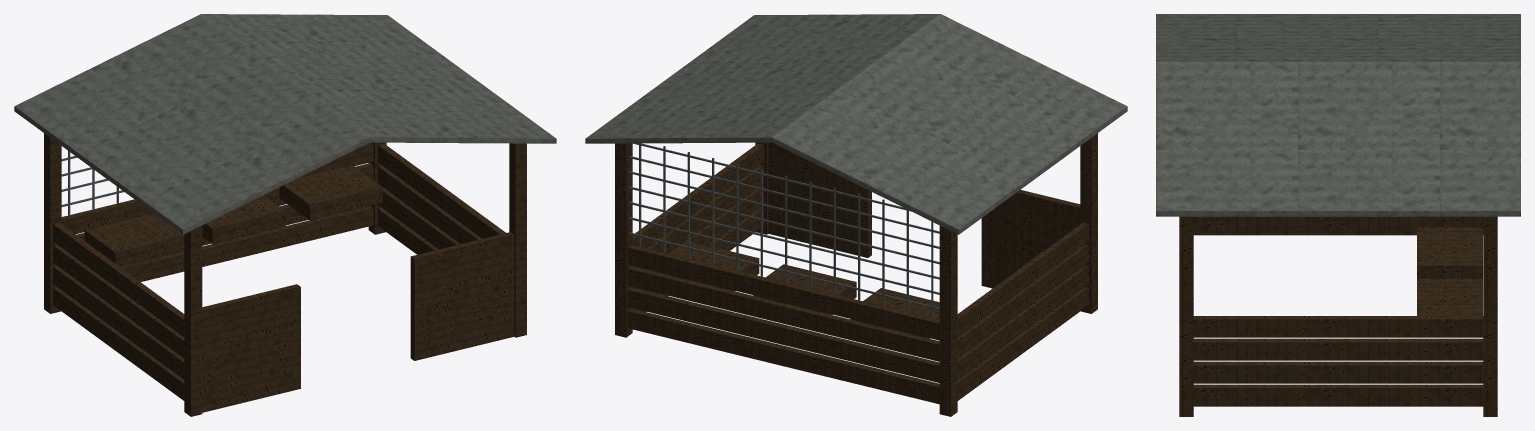
File: RURAL_galinheiro.gltf
3 renders of one model, left to right at view 1: azimuth 30°, elevation 25°; view 2: azimuth 150°, elevation 25°; view 3: azimuth 270°, elevation 25°, orthographic. The views are drawn at different scales.
Visible parts, largest first — view 1: galinheiro_TELHADO, galinheiro_FRENTE, galinheiro_LADO, galinheiro_NINHO, galinheiro_POSTE, galinheiro_FUNDO, galinheiro_TELA; view 2: galinheiro_TELHADO, galinheiro_FUNDO, galinheiro_LADO, galinheiro_FRENTE, galinheiro_TELA, galinheiro_POSTE, galinheiro_NINHO; view 3: galinheiro_TELHADO, galinheiro_LADO, galinheiro_NINHO, galinheiro_POSTE.
Boxes of the visible parts, x1,y1,x2,y2 form: galinheiro_TELHADO: (14, 14, 556, 234); galinheiro_FRENTE: (202, 232, 514, 412); galinheiro_LADO: (53, 143, 505, 400); galinheiro_NINHO: (84, 165, 382, 266); galinheiro_POSTE: (44, 133, 526, 416); galinheiro_FUNDO: (61, 142, 373, 281); galinheiro_TELA: (61, 151, 123, 215); galinheiro_TELHADO: (585, 14, 1127, 234); galinheiro_FUNDO: (627, 245, 939, 404); galinheiro_LADO: (632, 143, 1088, 400); galinheiro_FRENTE: (768, 142, 1080, 288); galinheiro_TELA: (629, 143, 939, 318); galinheiro_POSTE: (615, 133, 1097, 416); galinheiro_NINHO: (655, 240, 939, 338); galinheiro_TELHADO: (1156, 14, 1520, 216); galinheiro_LADO: (1193, 216, 1483, 406); galinheiro_NINHO: (1417, 216, 1482, 315); galinheiro_POSTE: (1179, 216, 1497, 416).
Size of the model in its own units: 4.6 by 2.9 by 3.6.
3 materials, 3 textured.
